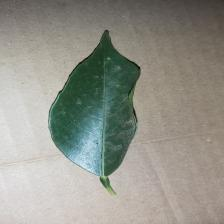healthy: (12, 44, 142, 164)
